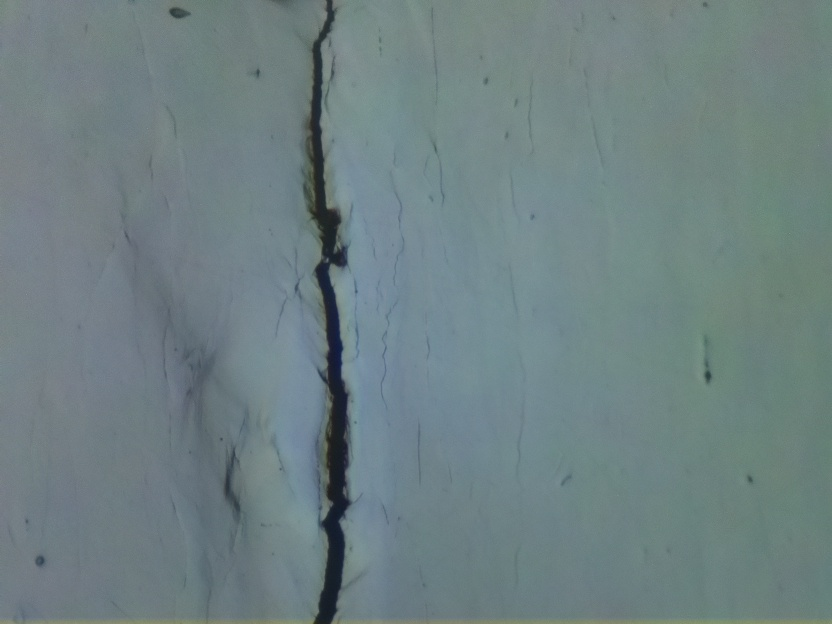crack: (303, 0, 351, 624)
